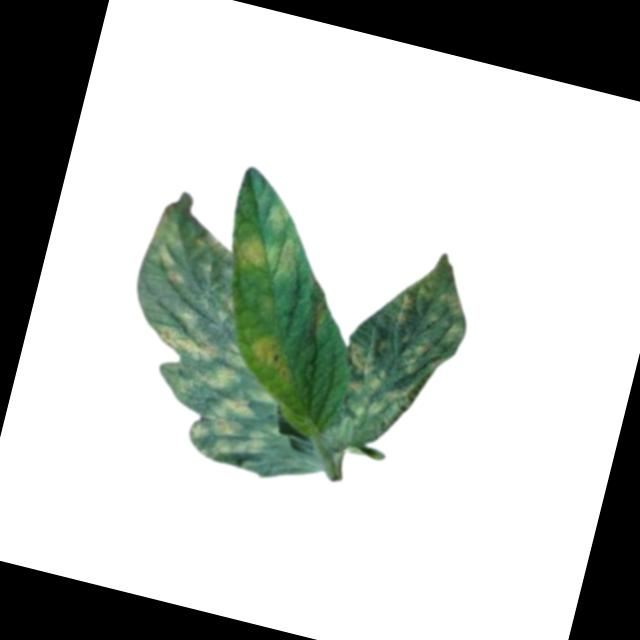Leaf_Mold: (102, 209, 316, 474), (325, 231, 484, 456), (241, 321, 301, 387), (235, 229, 301, 284), (262, 194, 294, 235)
